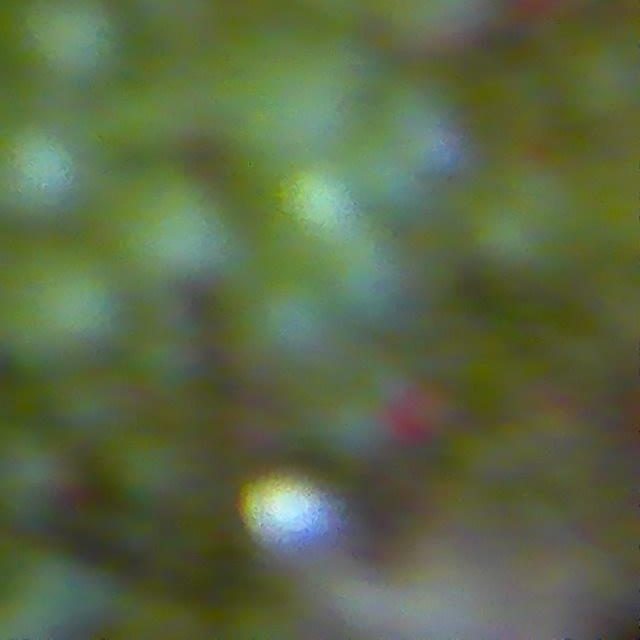SeaGrape: (0, 250, 124, 361), (226, 269, 340, 382), (262, 152, 368, 268), (105, 179, 225, 272), (0, 0, 114, 97), (0, 109, 87, 227), (0, 419, 79, 529), (107, 425, 200, 514), (306, 385, 395, 471), (51, 367, 131, 446)
